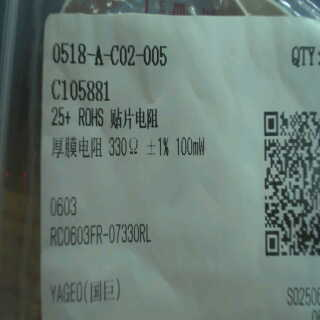330R: (106, 134, 140, 159)
